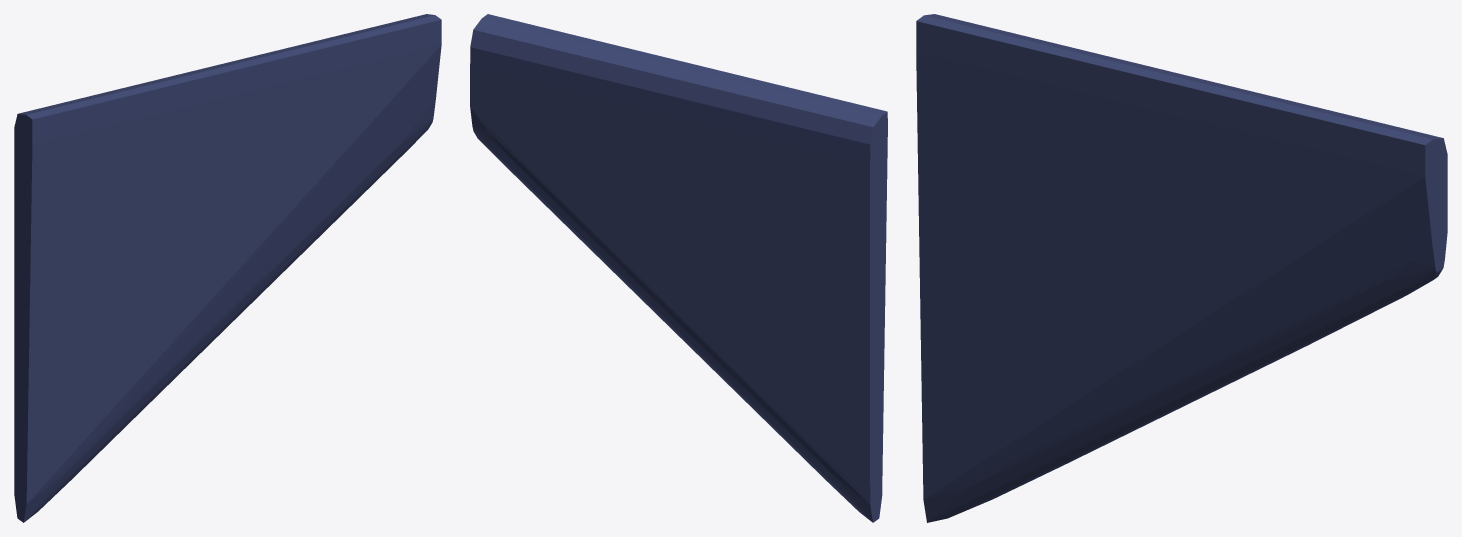
The model's file is right_hip_yaw_link_part_16.obj.
3 renders of one model, left to right at view 1: azimuth 30°, elevation 25°; view 2: azimuth 150°, elevation 25°; view 3: azimuth 330°, elevation 25°, orthographic. The views are drawn at different scales.
Bounding box in the file's own units: 0.0258 × 0.0247 × 0.00198.
